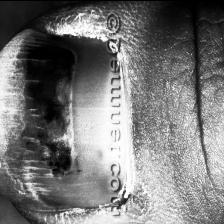Toxin: (1, 30, 104, 204)
